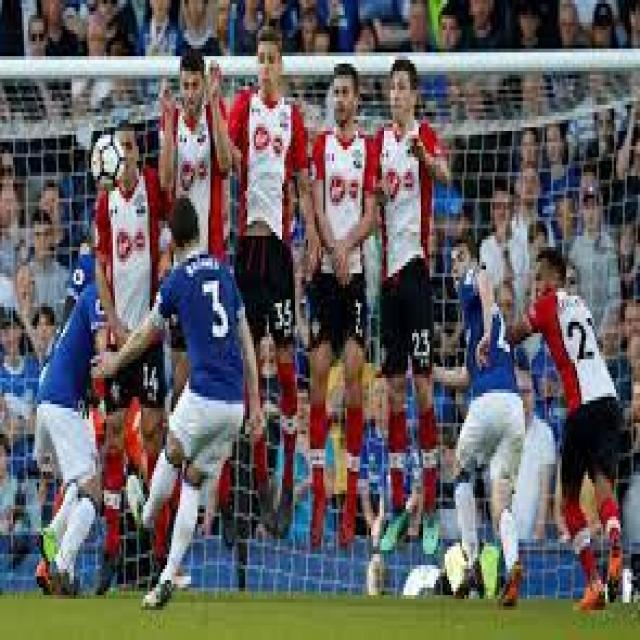free-kick: (92, 22, 456, 556)
